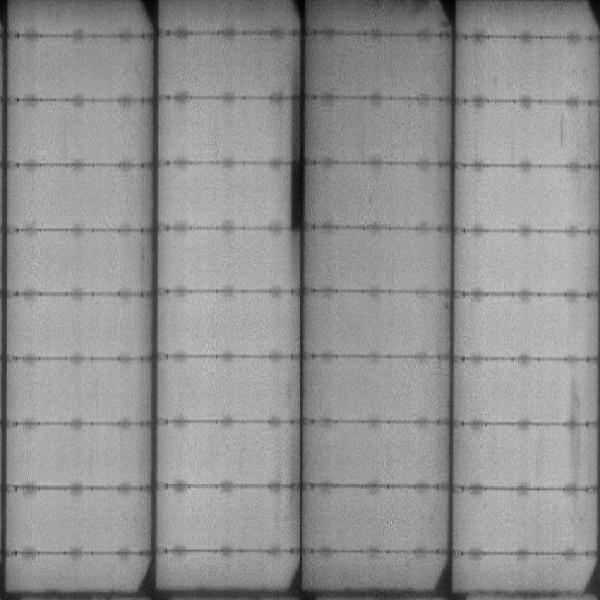black_border: (287, 92, 306, 236)
